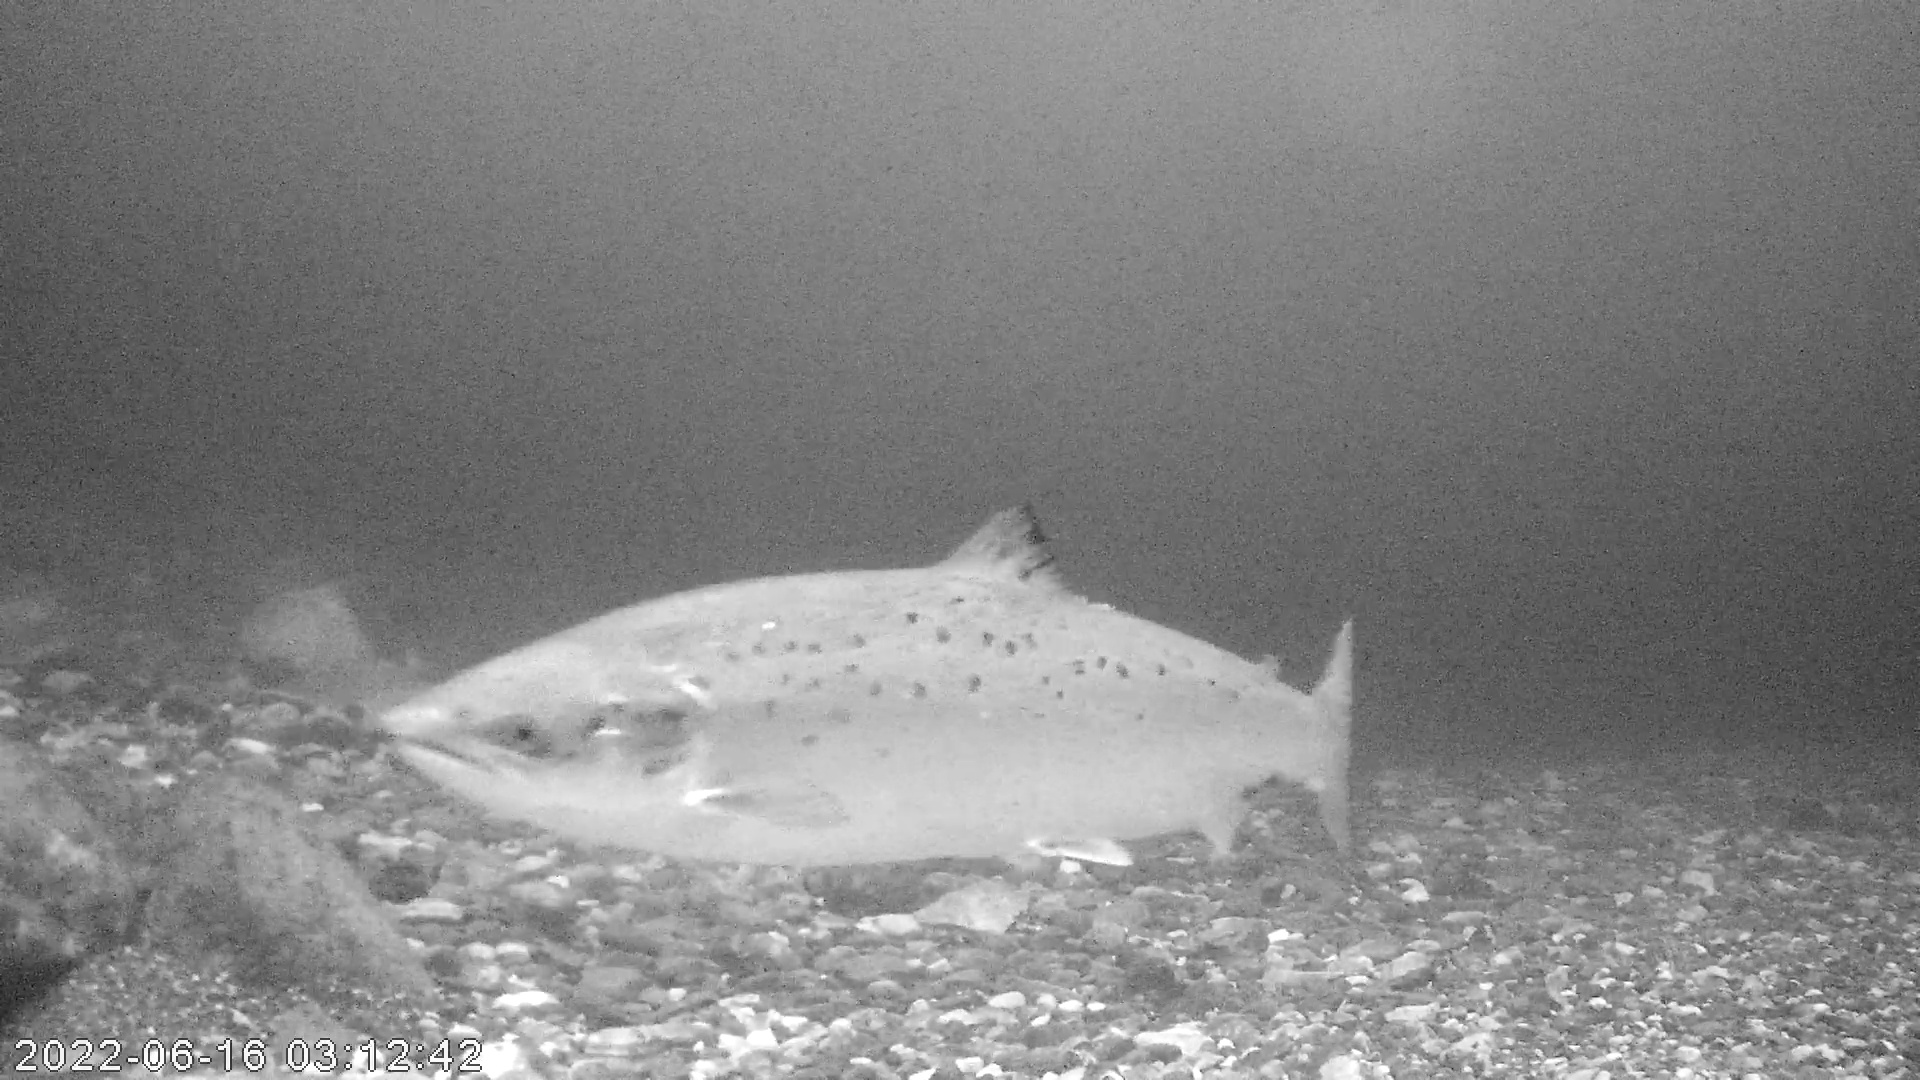salmon: (373, 498, 1364, 877)
